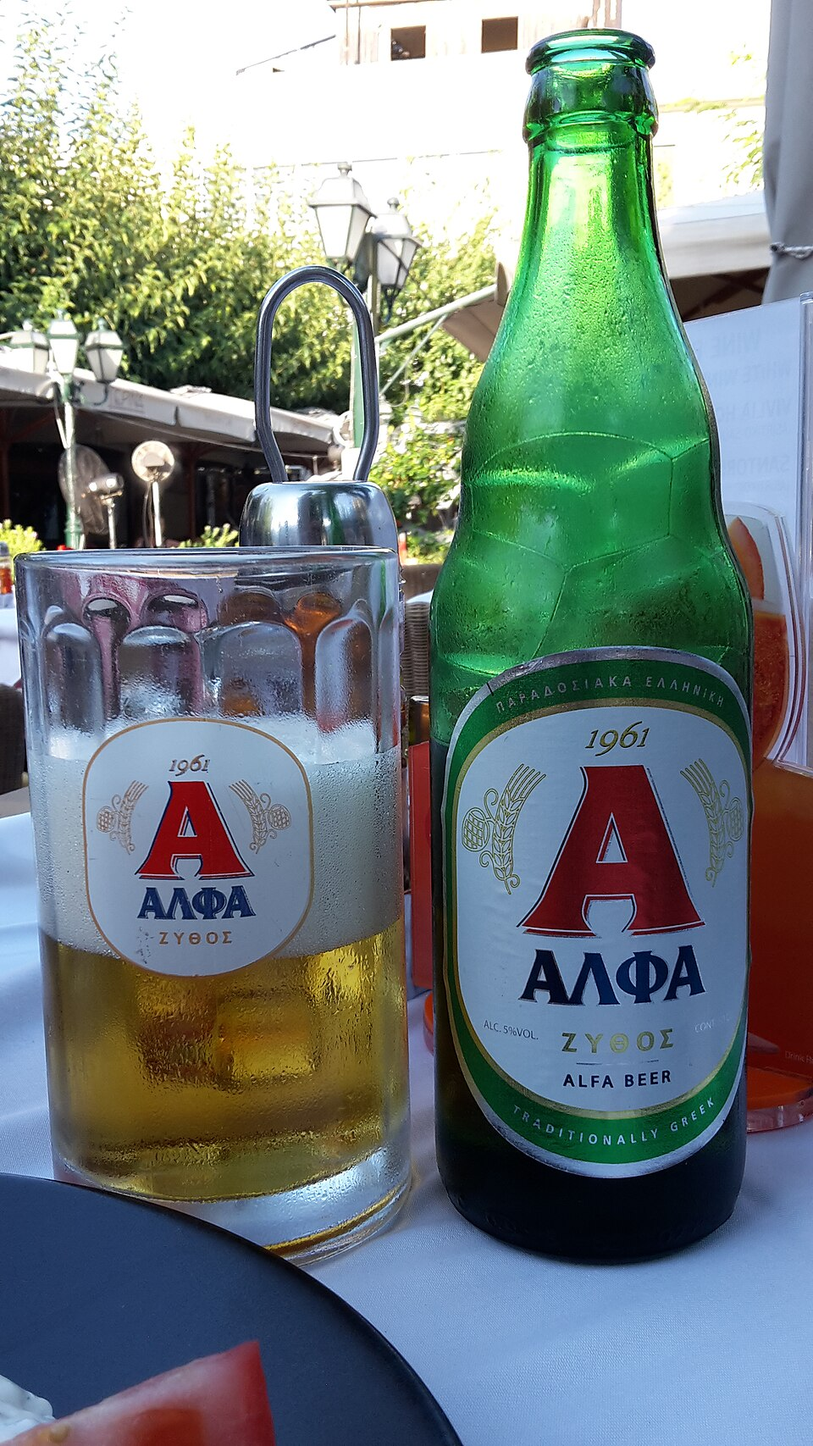beer-bottle: (417, 20, 771, 1292)
